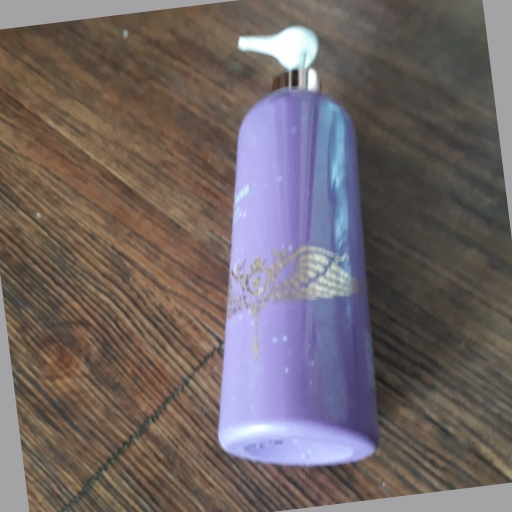Plastic_3: (218, 25, 383, 464)
